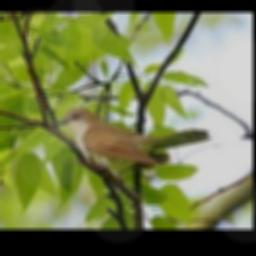Cuckoo: (51, 107, 211, 169)
